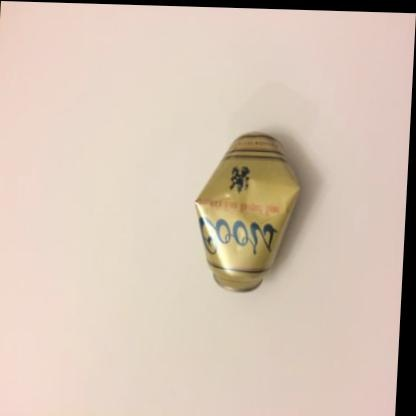trash: (196, 133, 299, 290)
